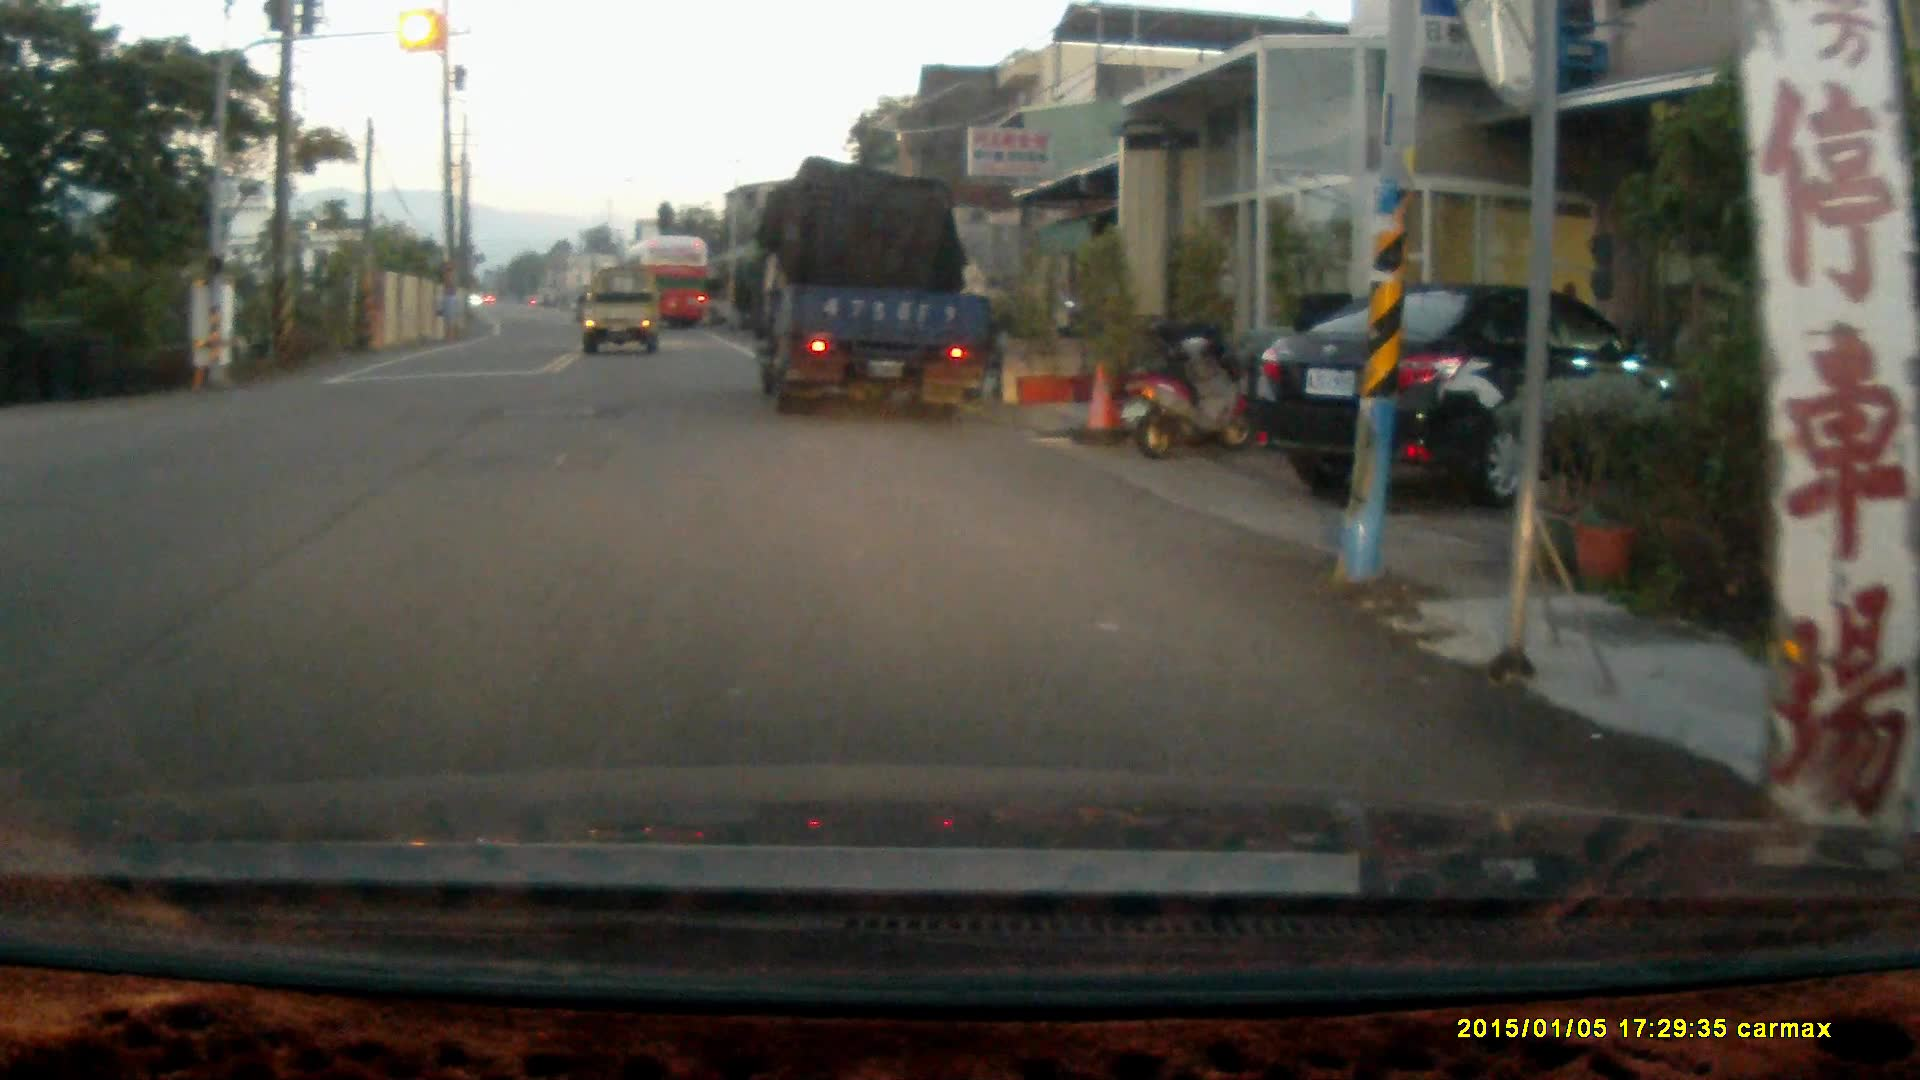vehicle: (1247, 278, 1685, 506), (737, 166, 992, 414), (628, 237, 713, 336), (582, 276, 658, 357)
